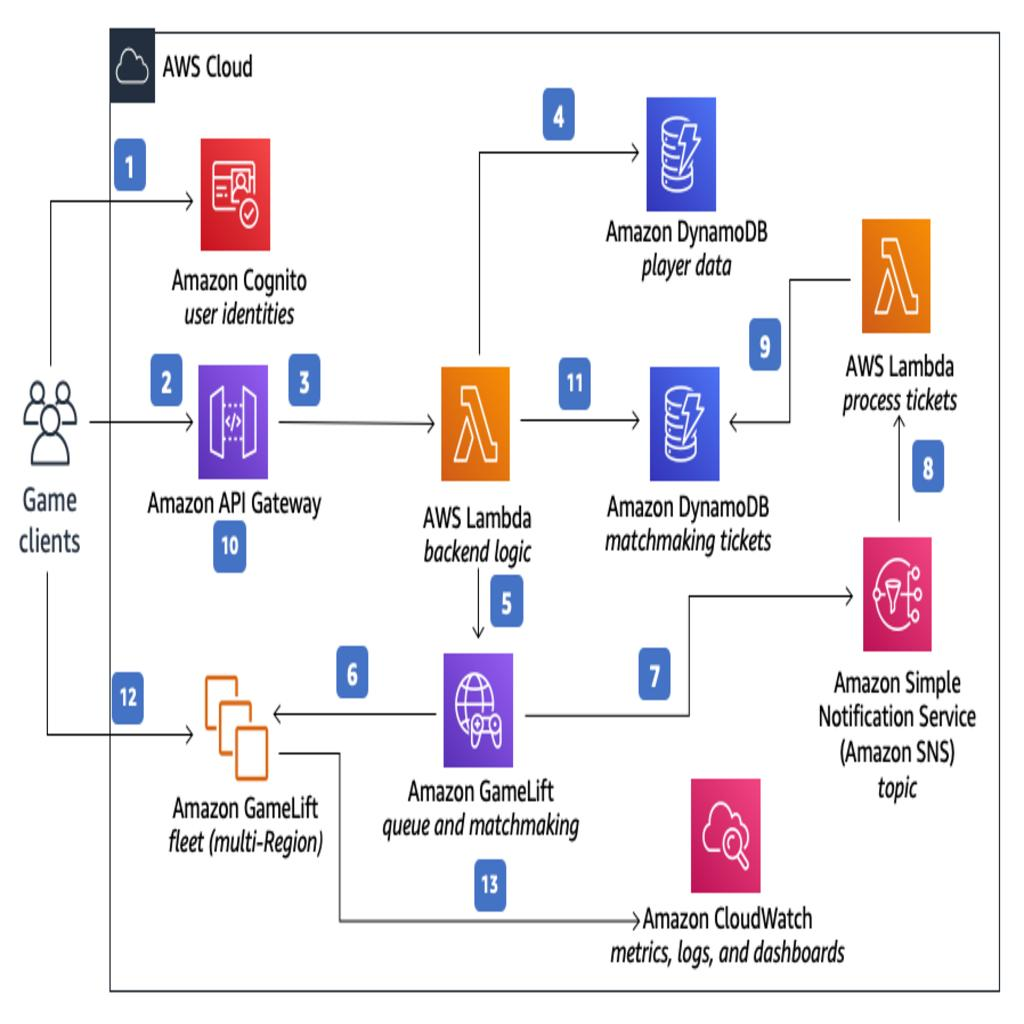actor: (16, 418, 82, 514)
api_gateway: (204, 377, 262, 467)
compute: (200, 678, 267, 768), (447, 377, 505, 467), (866, 230, 924, 320), (447, 666, 505, 756)
data_flow: (116, 512, 122, 958), (369, 921, 610, 926), (580, 709, 796, 714), (892, 400, 898, 522), (822, 268, 827, 370), (686, 542, 690, 656), (519, 151, 603, 156), (474, 200, 478, 302), (314, 420, 408, 424), (324, 709, 396, 714), (336, 794, 340, 881), (474, 516, 478, 594), (49, 732, 90, 738), (794, 420, 855, 424), (552, 420, 605, 424), (49, 193, 90, 198), (121, 420, 162, 424)
database_storage: (655, 108, 713, 198), (655, 377, 713, 467)
network_security: (204, 150, 262, 240), (866, 554, 924, 644), (696, 788, 754, 878)
trust_boundary: (112, 30, 998, 994)
